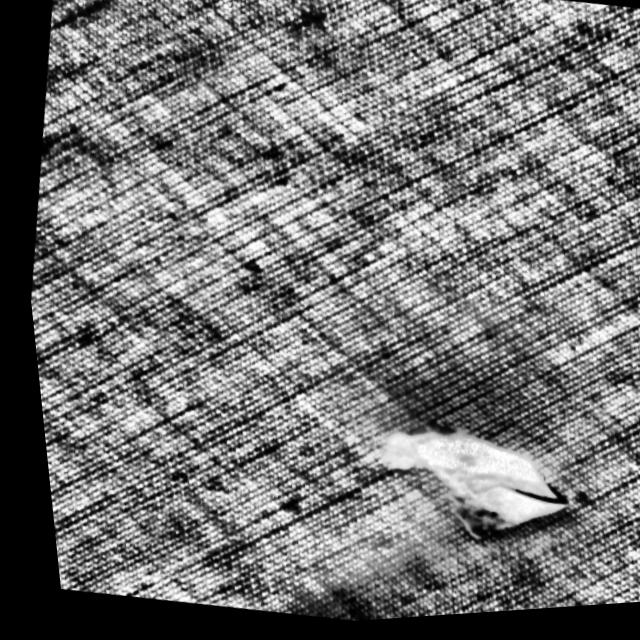Stitch: (357, 417, 574, 569)
